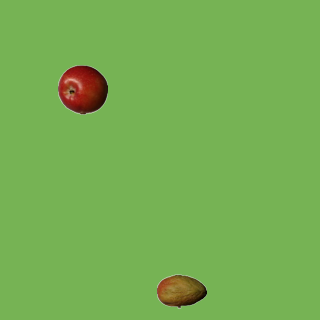Apple Braeburn: (57, 64, 107, 114)
Papaya: (156, 266, 206, 316)
